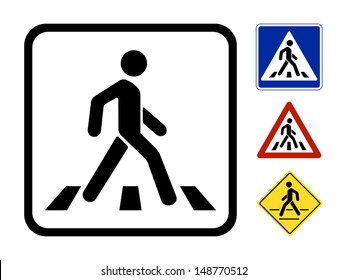pedestrian: (28, 29, 228, 228), (257, 25, 321, 88), (263, 106, 317, 158), (264, 178, 313, 229)
